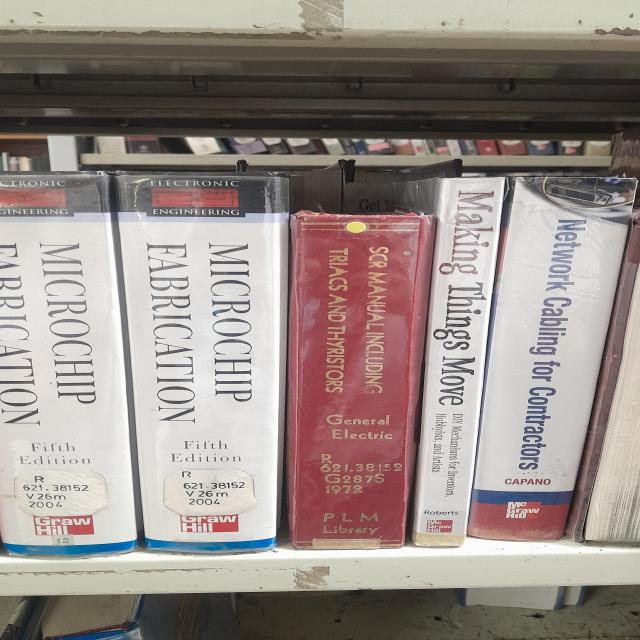book: (116, 172, 289, 552), (469, 176, 637, 540), (0, 173, 137, 556), (287, 211, 432, 549), (412, 179, 505, 546)
